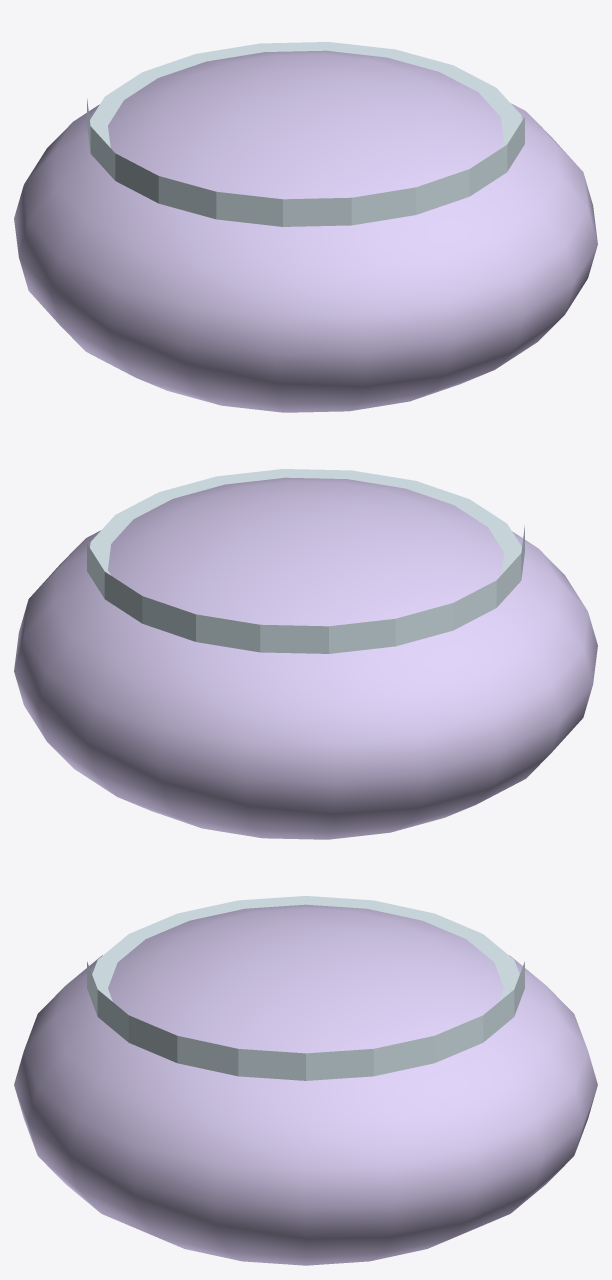
File: water-bowl.glb
3 views of the same model, one above another, from view 1: azimuth 30°, elevation 25°; view 2: azimuth 150°, elevation 25°; view 3: azimuth 270°, elevation 25° (orthographic).
Visible parts, largest first — view 1: bowl, water; view 2: bowl, water; view 3: bowl, water.
Part boxes in pixels (x1=…): bowl: x1=14, y1=50, x2=597, y2=412; water: x1=87, y1=42, x2=524, y2=226; bowl: x1=14, y1=477, x2=597, y2=839; water: x1=87, y1=469, x2=524, y2=653; bowl: x1=14, y1=904, x2=597, y2=1265; water: x1=87, y1=896, x2=524, y2=1080.
Bounding box in the file's own units: 0.48 × 0.24 × 0.48.
